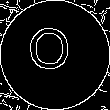O_S: (33, 29, 77, 81)
